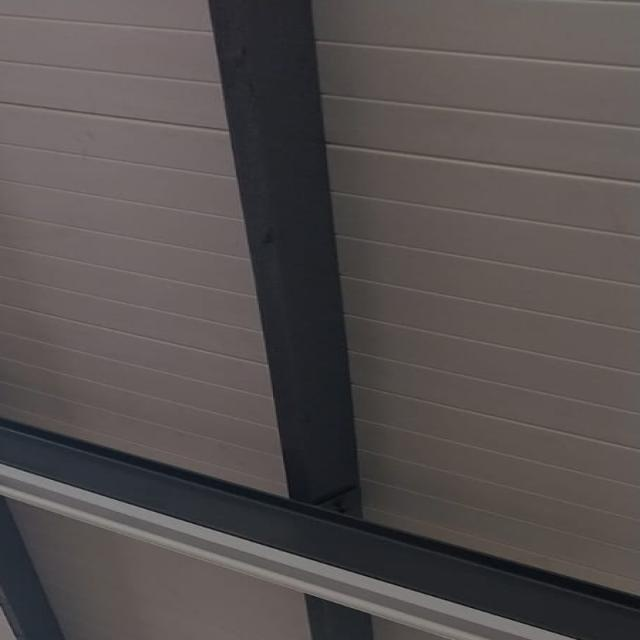fluorescent tube: (0, 436, 640, 640)
